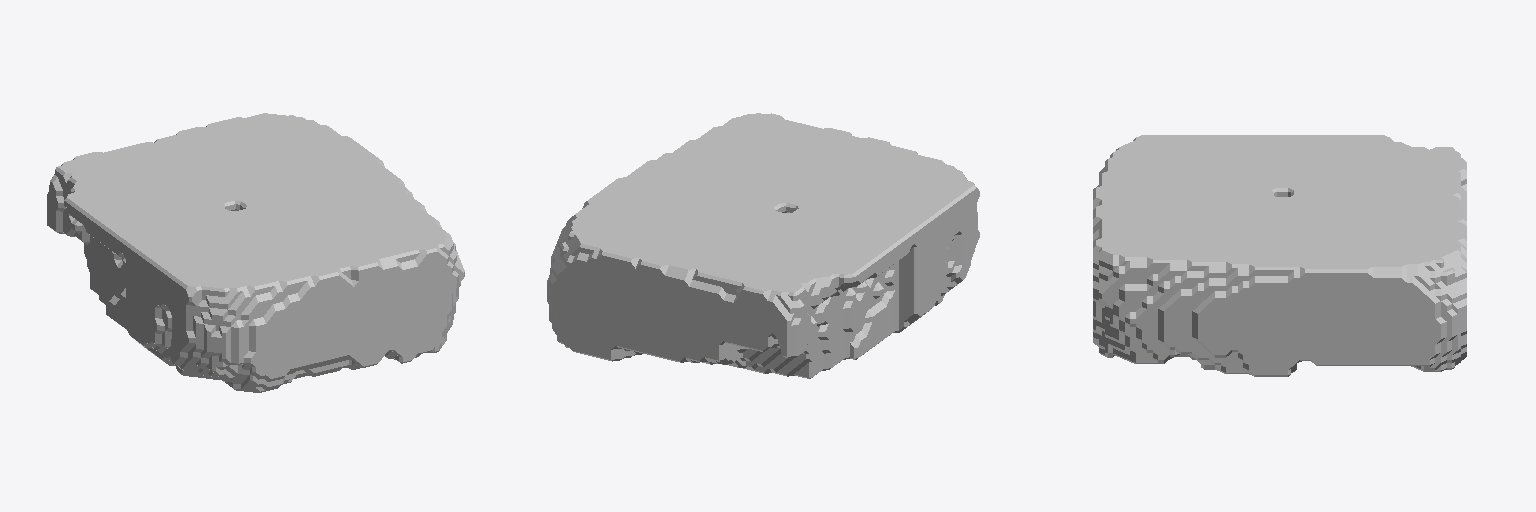
The model's file is Input_surface_mesh.obj.
The picture shows the model from 3 angles: view 1: azimuth 30°, elevation 25°; view 2: azimuth 150°, elevation 25°; view 3: azimuth 270°, elevation 25°; orthographic projection.
Bounding box in the file's own units: 4.56 × 1.68 × 5.28.